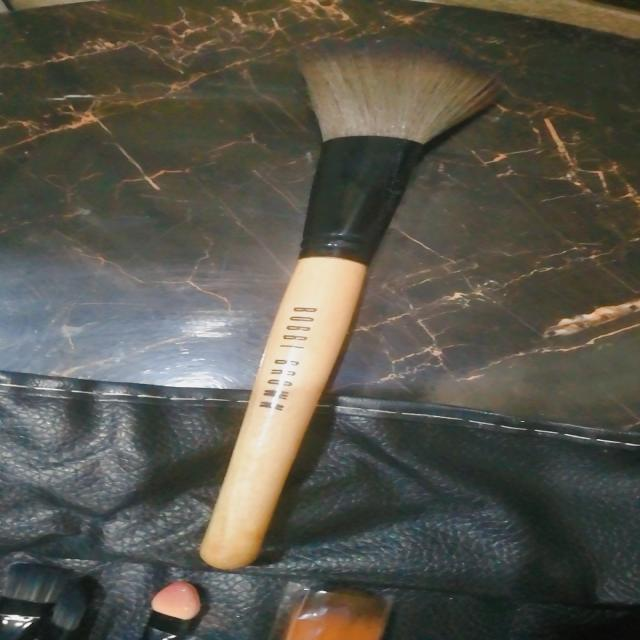brush: (173, 32, 545, 551)
